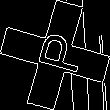P_W: (26, 30, 84, 80)
